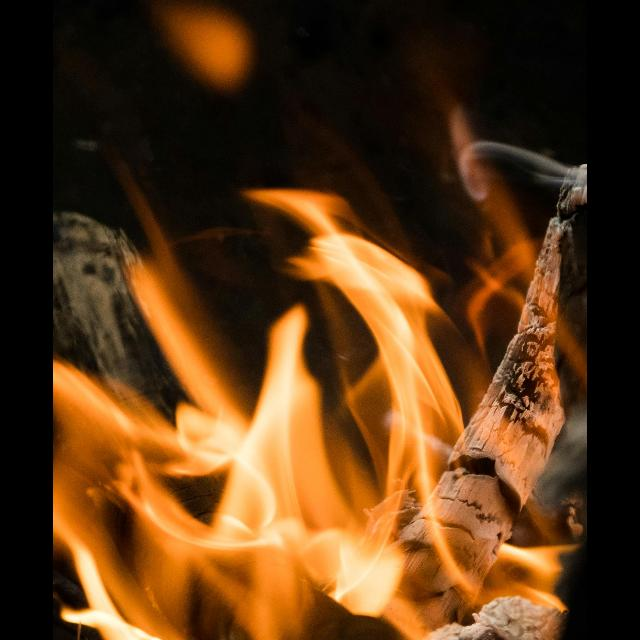fire: (53, 190, 566, 640)
